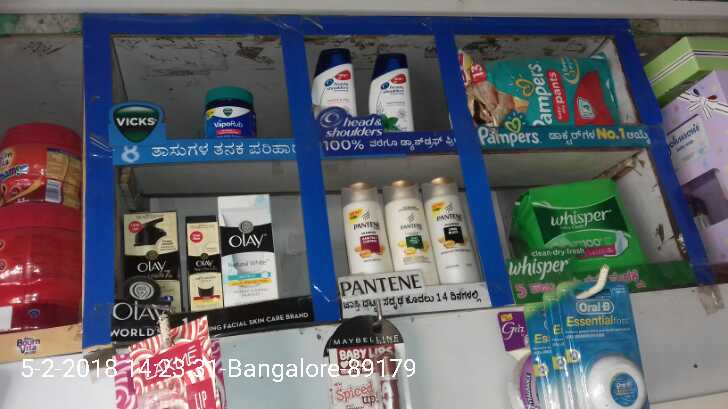oralcare: (542, 279, 641, 409)
vicks: (200, 86, 258, 141)
